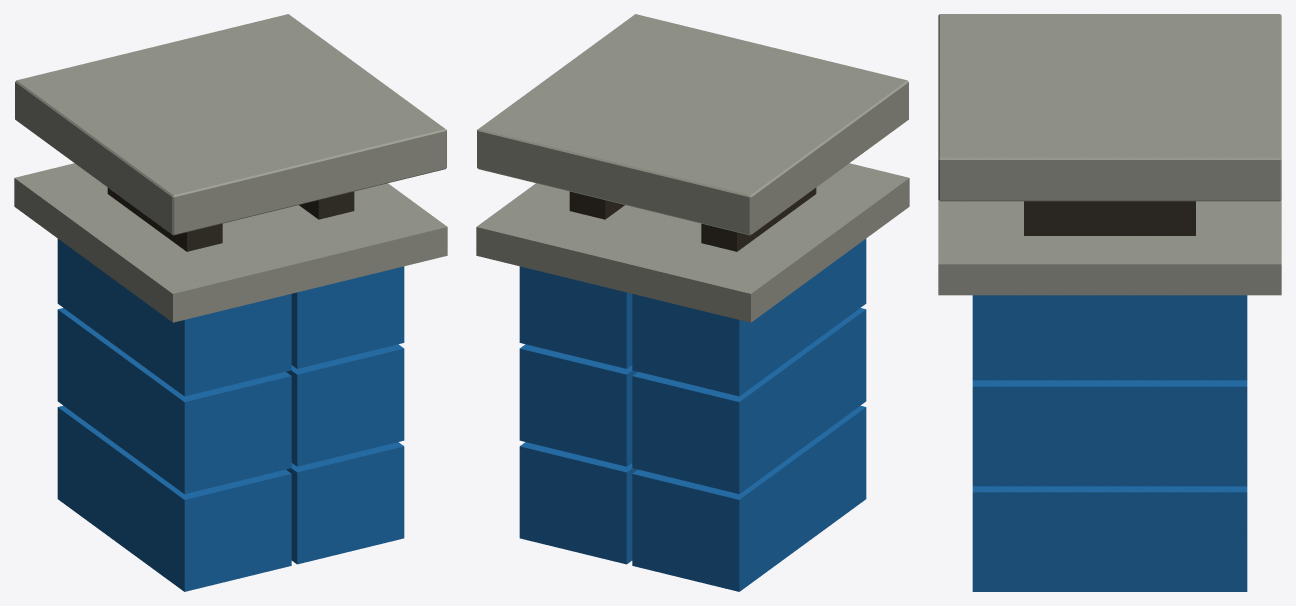
File: rooftop-chimney.fbx
The picture shows the model from 3 angles, left to right: view 1: azimuth 30°, elevation 25°; view 2: azimuth 150°, elevation 25°; view 3: azimuth 270°, elevation 25°; orthographic projection. The views are drawn at different scales.
Parts seen in each view (by area): view 1: rooftop-chimney; view 2: rooftop-chimney; view 3: rooftop-chimney.
Part boxes in pixels (left/top/right/bottom): rooftop-chimney: left=14, top=14, right=447, bottom=591; rooftop-chimney: left=476, top=14, right=909, bottom=591; rooftop-chimney: left=938, top=14, right=1281, bottom=591.
Size of the model in its own units: 1000 by 1440 by 1000.
1 material, 1 textured.
